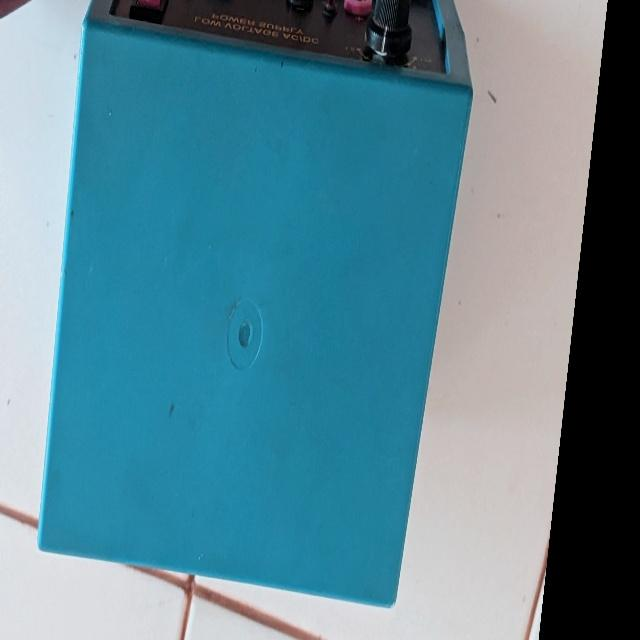Low Voltage AC-DC Power Supply 12 V: (15, 0, 492, 638)
